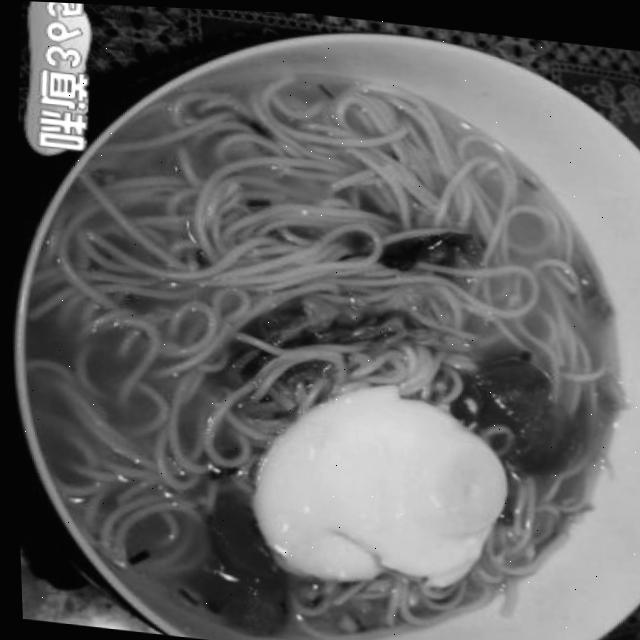面条主食: (9, 23, 640, 640)
